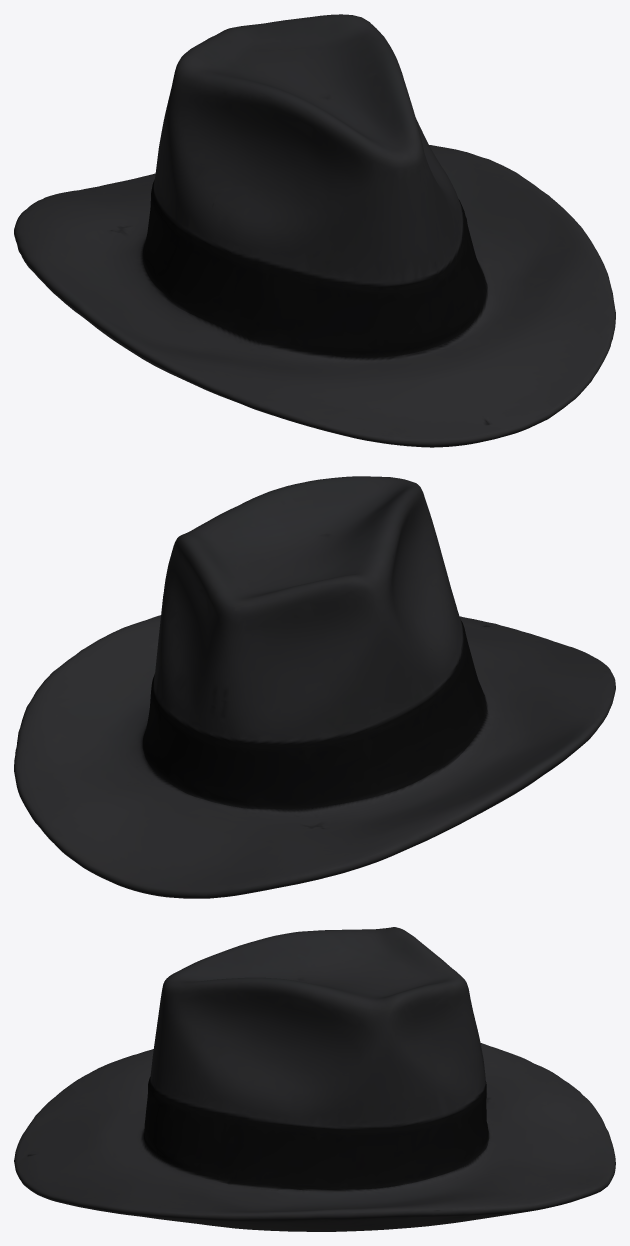
The model's file is fedora.glb.
3 renders of one model, top to bottom at view 1: azimuth 30°, elevation 25°; view 2: azimuth 150°, elevation 25°; view 3: azimuth 270°, elevation 25°, orthographic. The views are drawn at different scales.
Visible parts, largest first — view 1: Object_2; view 2: Object_2; view 3: Object_2.
Part boxes in pixels (<box>): Object_2: <box>14,14,615,447</box>; Object_2: <box>14,476,615,898</box>; Object_2: <box>14,927,615,1231</box>.
Bounding box in the file's own units: 1.45 × 0.7431 × 1.91.
1 material, 1 textured.
